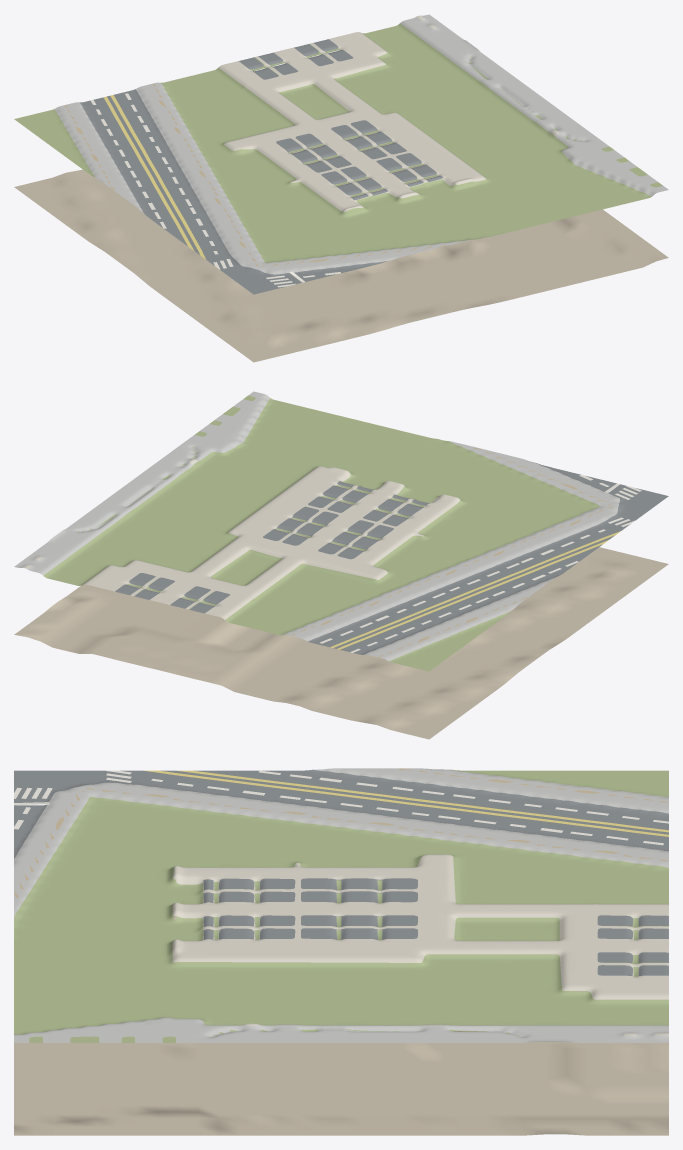
3 renders of one model, top to bottom at view 1: azimuth 30°, elevation 25°; view 2: azimuth 150°, elevation 25°; view 3: azimuth 270°, elevation 25°, orthographic. The views are drawn at different scales.
Visible parts, largest first — view 1: s_-2_-4__grass, s_-2_-4__soil, s_-2_-4__stone_paving, s_-2_-4__asphalt, s_-2_-4__paving, s_-2_-4__yellow_marking, s_-2_-4__white_marking, s_-2_-4__timber_deck; view 2: s_-2_-4__grass, s_-2_-4__soil, s_-2_-4__stone_paving, s_-2_-4__asphalt, s_-2_-4__paving, s_-2_-4__yellow_marking, s_-2_-4__white_marking, s_-2_-4__timber_deck; view 3: s_-2_-4__grass, s_-2_-4__soil, s_-2_-4__asphalt, s_-2_-4__stone_paving, s_-2_-4__paving, s_-2_-4__yellow_marking, s_-2_-4__white_marking, s_-2_-4__timber_deck.
Boxes of the visible parts, bbox=[...] form: s_-2_-4__grass: bbox=[14, 23, 662, 262]; s_-2_-4__soil: bbox=[14, 131, 668, 362]; s_-2_-4__stone_paving: bbox=[54, 14, 668, 274]; s_-2_-4__asphalt: bbox=[80, 39, 443, 294]; s_-2_-4__paving: bbox=[218, 15, 558, 211]; s_-2_-4__yellow_marking: bbox=[103, 95, 205, 259]; s_-2_-4__white_marking: bbox=[90, 93, 340, 287]; s_-2_-4__timber_deck: bbox=[65, 83, 446, 266]; s_-2_-4__grass: bbox=[43, 395, 599, 671]; s_-2_-4__soil: bbox=[14, 486, 668, 739]; s_-2_-4__stone_paving: bbox=[14, 391, 619, 661]; s_-2_-4__asphalt: bbox=[115, 463, 668, 654]; s_-2_-4__paving: bbox=[23, 459, 459, 619]; s_-2_-4__yellow_marking: bbox=[330, 531, 620, 649]; s_-2_-4__white_marking: bbox=[320, 475, 641, 652]; s_-2_-4__timber_deck: bbox=[290, 447, 612, 657]; s_-2_-4__grass: bbox=[14, 769, 668, 1042]; s_-2_-4__soil: bbox=[14, 882, 668, 1135]; s_-2_-4__asphalt: bbox=[14, 769, 668, 975]; s_-2_-4__stone_paving: bbox=[14, 768, 668, 1042]; s_-2_-4__paving: bbox=[172, 854, 668, 1036]; s_-2_-4__yellow_marking: bbox=[144, 770, 668, 836]; s_-2_-4__white_marking: bbox=[14, 770, 668, 845]; s_-2_-4__timber_deck: bbox=[14, 768, 668, 897].
Size of the model in its own units: 128 by 21.48 by 128.
